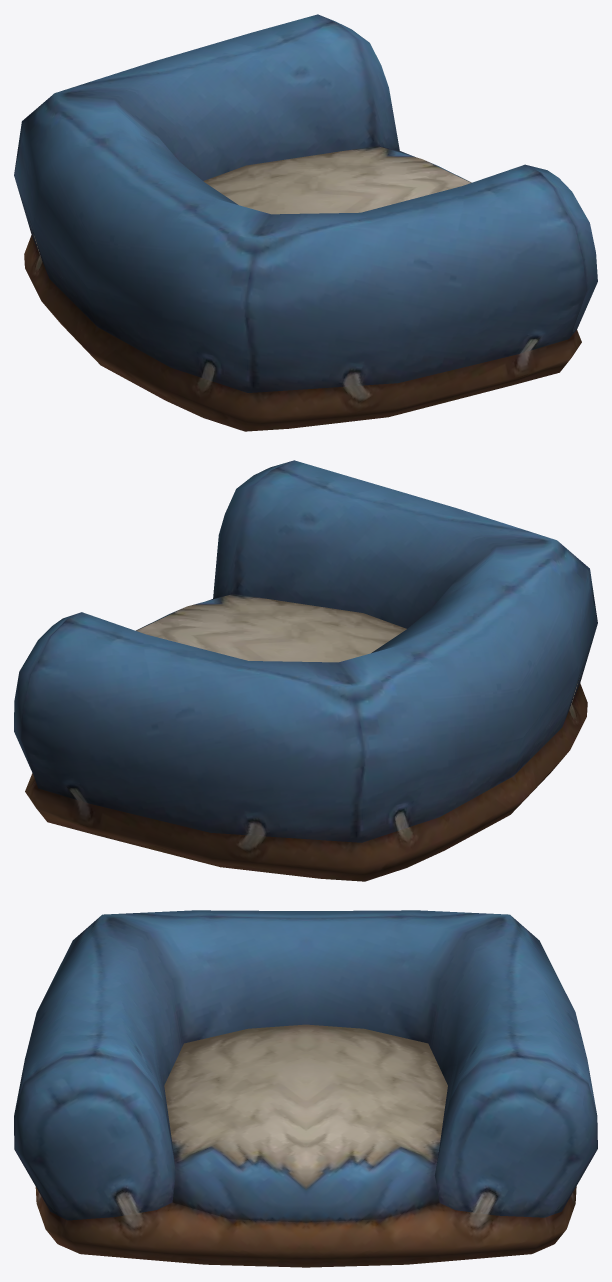
3 views of the same model, one above another, from view 1: azimuth 30°, elevation 25°; view 2: azimuth 150°, elevation 25°; view 3: azimuth 270°, elevation 25° (orthographic).
Size of the model in its own units: 1.55 by 0.666 by 1.86.
Materials: 1 (1 with a texture image).
